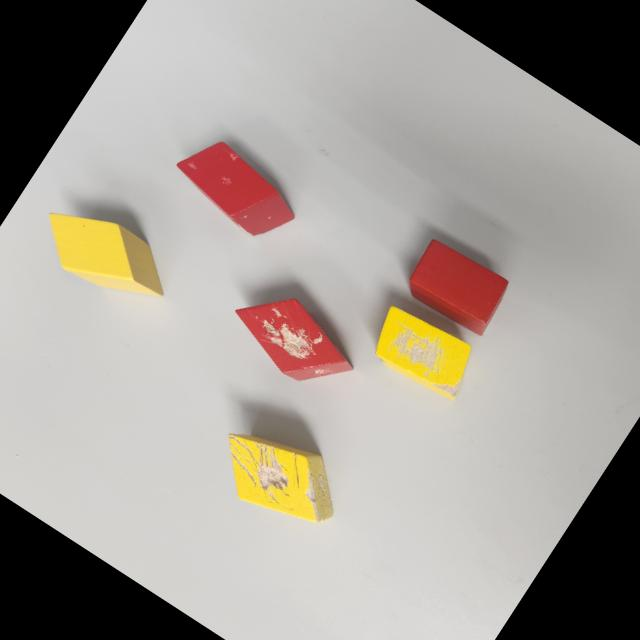broken: (202, 406, 358, 548), (218, 274, 370, 407), (164, 126, 308, 252), (360, 296, 485, 408)
red: (399, 232, 515, 340)
yellow: (26, 188, 182, 322)
